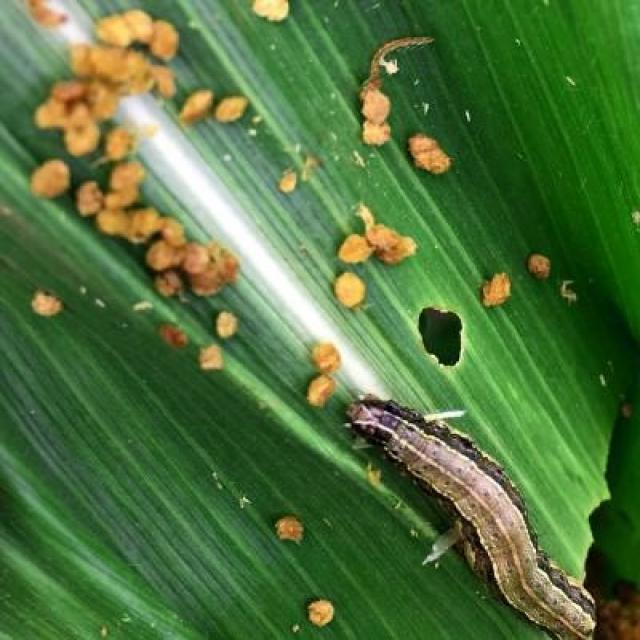army worm: (339, 388, 611, 634)
